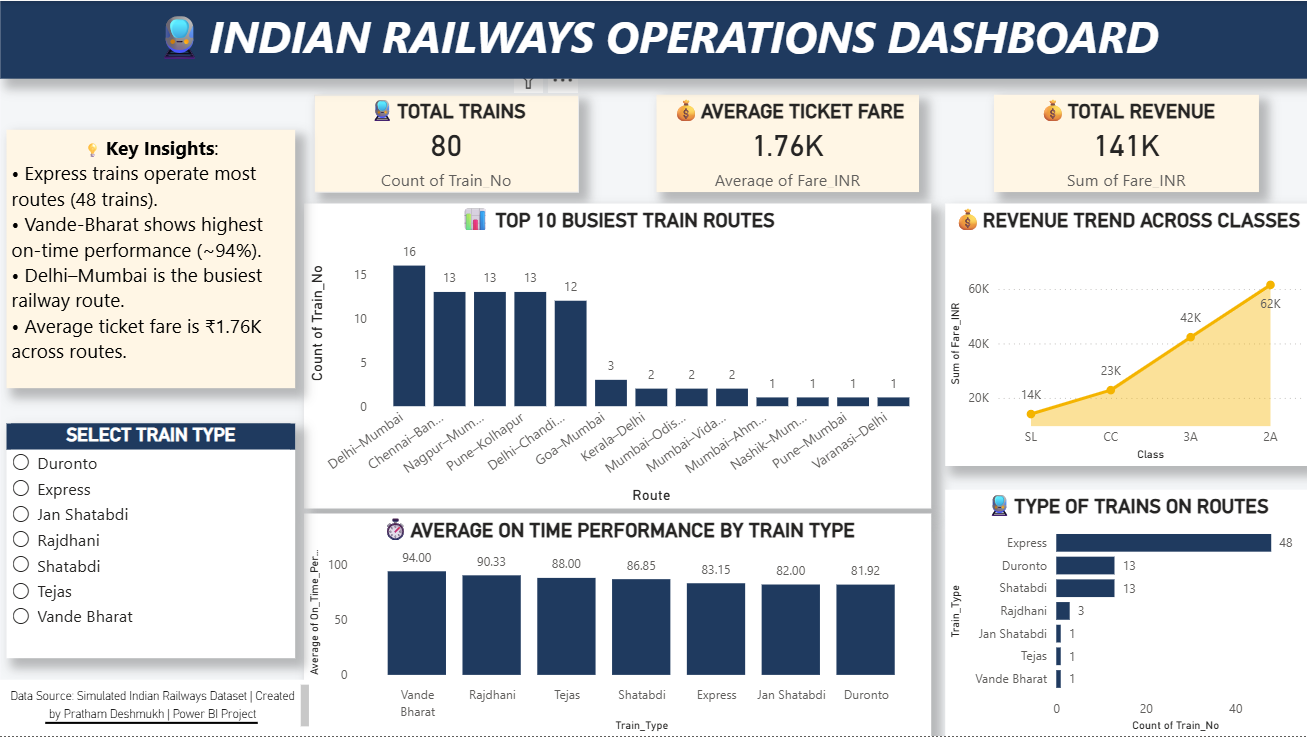

The page's visual inventory and layout, read from the dashboard file:
{"tool":"powerbi","page":{"name":"OVERVIEW","canvas":[1280,720],"ordinal":0},"visuals":[{"type":"shape","box":[1.2,0,1279.1,721.5],"z":0},{"type":"card","title":"🚆TOTAL TRAINS ","fields":{"Values":["CountNonNull(Trains_Data.Train_No)"]},"box":[308.2,91.7,259.2,95.4],"z":1000},{"type":"card","title":"💰AVERAGE TICKET FARE ","fields":{"Values":["Avg(Trains_Data.Fare_INR)"]},"box":[643.2,91.7,256.8,95.4],"z":2000},{"type":"clusteredColumnChart","title":"📊 TOP 10 BUSIEST TRAIN ROUTES ","fields":{"Category":["Trains_Data.Route"],"Y":["CountNonNull(Trains_Data.Train_No)"]},"box":[298.3,197.7,613.6,298.3],"z":3000},{"type":"clusteredColumnChart","title":"⏱️AVERAGE ON TIME PERFORMANCE BY TRAIN TYPE","fields":{"Category":["Trains_Data.Train_Type"],"Y":["Avg(Trains_Data.On_Time_Percentage)"]},"box":[298.4,501.4,613.9,218.9],"z":4000},{"type":"textbox","box":[1.2,0,1279.1,75.8],"z":5000},{"type":"textbox","box":[7.3,126,282.5,253.1],"z":6000},{"type":"card","title":"💰TOTAL REVENUE ","fields":{"Values":["Sum(Trains_Data.Fare_INR)"]},"box":[973.4,91.7,259.2,95.4],"z":7000},{"type":"lineChart","title":"💰REVENUE TREND ACROSS CLASSES ","fields":{"Category":["Trains_Data.Class"],"Y":["Sum(Trains_Data.Fare_INR)"]},"box":[925.7,198.1,354.6,256.8],"z":8000},{"type":"listSlicer","title":"SELECT TRAIN TYPE","fields":{"Values":["Trains_Data.Train_Type"]},"box":[7.3,413.3,282.5,229.9],"z":9000},{"type":"textbox","box":[0,664,308.2,56.3],"z":10000},{"type":"shape","box":[45.2,692.1,207.9,28.1],"z":11000},{"type":"clusteredBarChart","title":"🚆TYPE OF TRAINS ON ROUTES","fields":{"Category":["Trains_Data.Train_Type"],"Y":["CountNonNull(Trains_Data.Train_No)"]},"box":[925.7,478.1,354.6,242.1],"z":12000}]}

Visuals, with their boxes in screenshot pixels (x1, y1, x2, y2), scaled from the page's 1280x720 canvas onto the 1307x737 screenshot:
shape: pyautogui.locateOnScreen(1, 0, 1306, 736)
"🚆TOTAL TRAINS " card: pyautogui.locateOnScreen(315, 94, 579, 192)
"💰AVERAGE TICKET FARE " card: pyautogui.locateOnScreen(657, 94, 919, 192)
"📊 TOP 10 BUSIEST TRAIN ROUTES " clusteredColumnChart: pyautogui.locateOnScreen(305, 202, 931, 508)
"⏱️AVERAGE ON TIME PERFORMANCE BY TRAIN TYPE" clusteredColumnChart: pyautogui.locateOnScreen(305, 513, 932, 736)
textbox: pyautogui.locateOnScreen(1, 0, 1306, 78)
textbox: pyautogui.locateOnScreen(7, 129, 296, 388)
"💰TOTAL REVENUE " card: pyautogui.locateOnScreen(994, 94, 1259, 192)
"💰REVENUE TREND ACROSS CLASSES " lineChart: pyautogui.locateOnScreen(945, 203, 1306, 466)
"SELECT TRAIN TYPE" listSlicer: pyautogui.locateOnScreen(7, 423, 296, 658)
textbox: pyautogui.locateOnScreen(0, 680, 315, 736)
shape: pyautogui.locateOnScreen(46, 708, 258, 736)
"🚆TYPE OF TRAINS ON ROUTES" clusteredBarChart: pyautogui.locateOnScreen(945, 489, 1306, 736)
